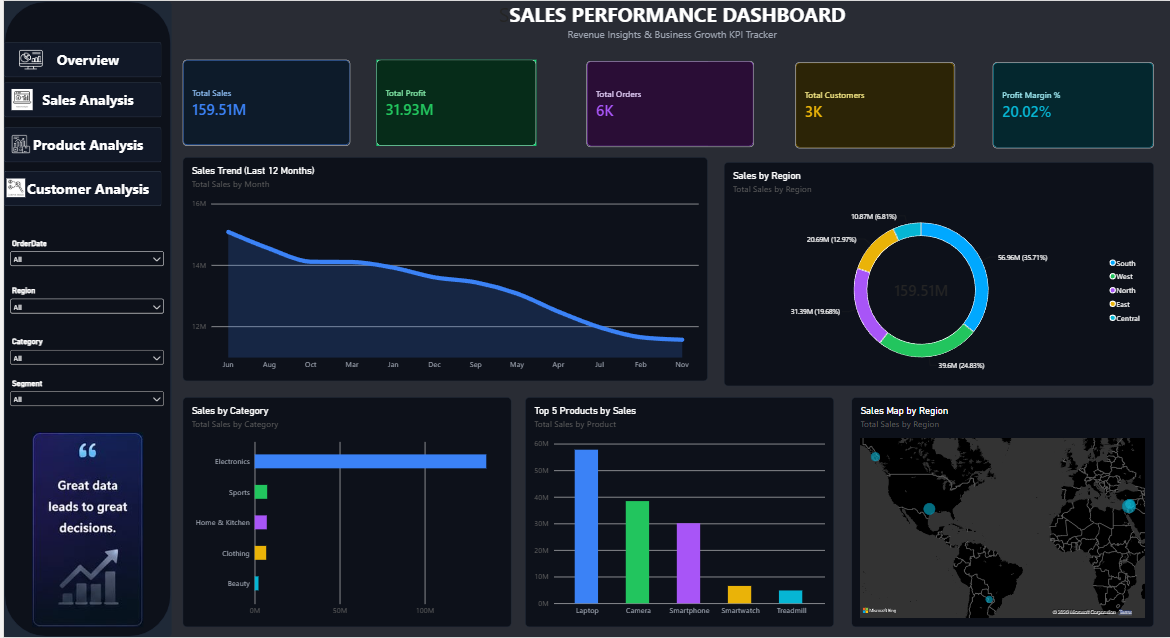

Layout of this report page (visuals, bound fields, positions):
{"tool":"powerbi","page":{"name":"Page 1","canvas":[2200,1200],"ordinal":0},"visuals":[{"type":"shape","box":[0,0,316,1200.5],"z":0},{"type":"cardVisual","fields":{"Data":["Sales_Dashboard_Dataset.Total Profit"]},"box":[702.8,110.8,301.9,162.7],"z":0},{"type":"clusteredColumnChart","title":"Top 5 Products by Sales","fields":{"Category":["Sales_Dashboard_Dataset.Product"],"Y":["Sales_Dashboard_Dataset.Total Sales"]},"box":[983.5,747.6,582.5,434],"z":0},{"type":"cardVisual","fields":{"Data":["Sales_Dashboard_Dataset.Total Orders"]},"box":[1099.1,113.2,316,162.7],"z":1000},{"type":"donutChart","title":"Sales by Region","fields":{"Category":["Sales_Dashboard_Dataset.Region"],"Y":["Sales_Dashboard_Dataset.Total Sales"]},"box":[1358.5,304.2,811.3,422.2],"z":1000},{"type":"map","title":"Sales Map by Region","fields":{"Category":["Sales_Dashboard_Dataset.Region"],"Size":["Sales_Dashboard_Dataset.Total Sales"]},"box":[1599.1,747.6,570.8,434],"z":1000},{"type":"actionButton","box":[0,77.8,297.2,66],"z":2000},{"type":"cardVisual","fields":{"Data":["Sales_Dashboard_Dataset.Total Customers"]},"box":[1492.9,115.6,301.9,162.7],"z":2000},{"type":"image","box":[14.2,82.5,73.1,56.6],"z":3000},{"type":"cardVisual","fields":{"Data":["Sales_Dashboard_Dataset.Profit Margin %"]},"box":[1865.6,115.6,304.2,162.7],"z":3000},{"type":"cardVisual","fields":{"Data":["Sales_Dashboard_Dataset.Total Sales"]},"box":[337.3,110.8,316,162.7],"z":4000},{"type":"actionButton","box":[0,153.3,297.2,66],"z":4000},{"type":"image","box":[14.2,160.4,40.1,51.9],"z":5000},{"type":"lineChart","title":"Sales Trend (Last 12 Months)","fields":{"Category":["Calendar.Month"],"Y":["Sales_Dashboard_Dataset.Total Sales"]},"box":[337.3,294.8,990.6,422.2],"z":5000},{"type":"actionButton","box":[0,238.2,297.2,66],"z":6000},{"type":"clusteredBarChart","title":"Sales by Category","fields":{"Category":["Sales_Dashboard_Dataset.Category"],"Y":["Sales_Dashboard_Dataset.Total Sales"]},"box":[337.3,747.6,620.3,434],"z":6000},{"type":"actionButton","box":[0,320.8,297.2,66],"z":7000},{"type":"image","box":[14.2,245.3,35.4,49.5],"z":8000},{"type":"image","box":[0,334.9,44.8,35.4],"z":9000},{"type":"slicer","fields":{"Values":["Sales_Dashboard_Dataset.OrderDate"]},"box":[7.1,448.1,299.5,89.6],"z":9001},{"type":"slicer","fields":{"Values":["Sales_Dashboard_Dataset.Region"]},"box":[7.1,537.7,299.5,96.7],"z":9002},{"type":"slicer","fields":{"Values":["Sales_Dashboard_Dataset.Category"]},"box":[7.1,634.4,299.5,113.2],"z":9003},{"type":"slicer","fields":{"Values":["Sales_Dashboard_Dataset.Segment"]},"box":[7.1,712.3,299.5,68.4],"z":9004},{"type":"image","box":[0,813.7,316,367.9],"z":9005},{"type":"textbox","box":[400.9,0,1719.3,110.8],"z":9006}]}

Visuals, with their boxes in screenshot pixels (x1, y1, x2, y2), scaled from the page's 2200x1200 canvas onto the 1170x638 screenshot:
shape: (0,0,168,637)
cardVisual - Sales_Dashboard_Dataset.Total Profit: (374,59,534,145)
"Top 5 Products by Sales" clusteredColumnChart: (523,397,833,628)
cardVisual - Sales_Dashboard_Dataset.Total Orders: (585,60,753,147)
"Sales by Region" donutChart: (722,162,1154,386)
"Sales Map by Region" map: (850,397,1154,628)
actionButton: (0,41,158,76)
cardVisual - Sales_Dashboard_Dataset.Total Customers: (794,61,955,148)
image: (8,44,46,74)
cardVisual - Sales_Dashboard_Dataset.Profit Margin %: (992,61,1154,148)
cardVisual - Sales_Dashboard_Dataset.Total Sales: (179,59,347,145)
actionButton: (0,82,158,117)
image: (8,85,29,113)
"Sales Trend (Last 12 Months)" lineChart: (179,157,706,381)
actionButton: (0,127,158,162)
"Sales by Category" clusteredBarChart: (179,397,509,628)
actionButton: (0,171,158,206)
image: (8,130,26,157)
image: (0,178,24,197)
slicer - Sales_Dashboard_Dataset.OrderDate: (4,238,163,286)
slicer - Sales_Dashboard_Dataset.Region: (4,286,163,337)
slicer - Sales_Dashboard_Dataset.Category: (4,337,163,397)
slicer - Sales_Dashboard_Dataset.Segment: (4,379,163,415)
image: (0,433,168,628)
textbox: (213,0,1128,59)
